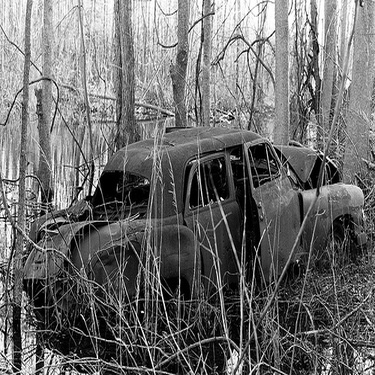car: (5, 5, 369, 370)
